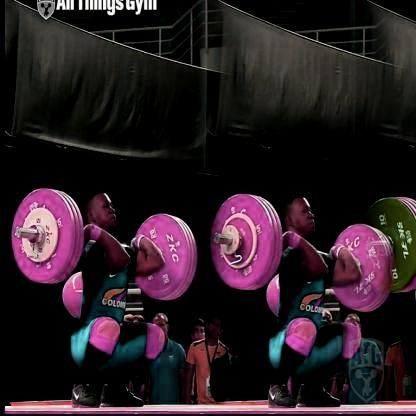Barbell: (212, 230, 223, 248), (14, 224, 24, 243)
